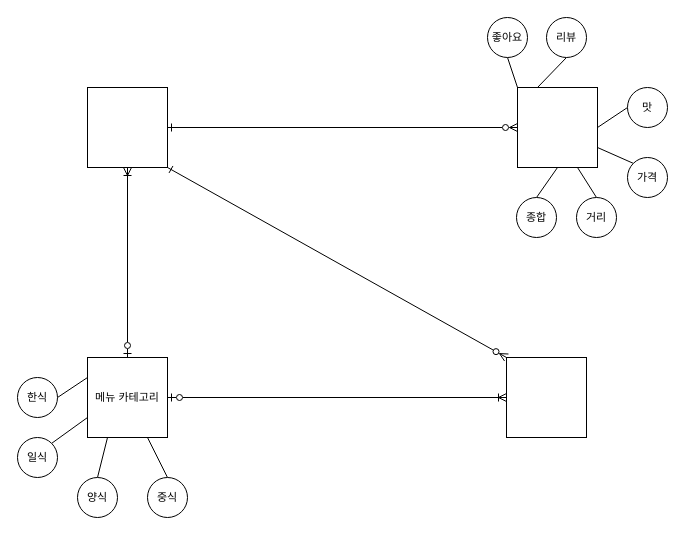
Image size: 685x535. Some labels were removed from this diagram. Here are the shapes that lost their labels. From the top down, the box of each, then its label:
(86, 86, 168, 168): 음식점
(516, 86, 598, 168): 음식점 평가
(506, 356, 586, 438): 메뉴
